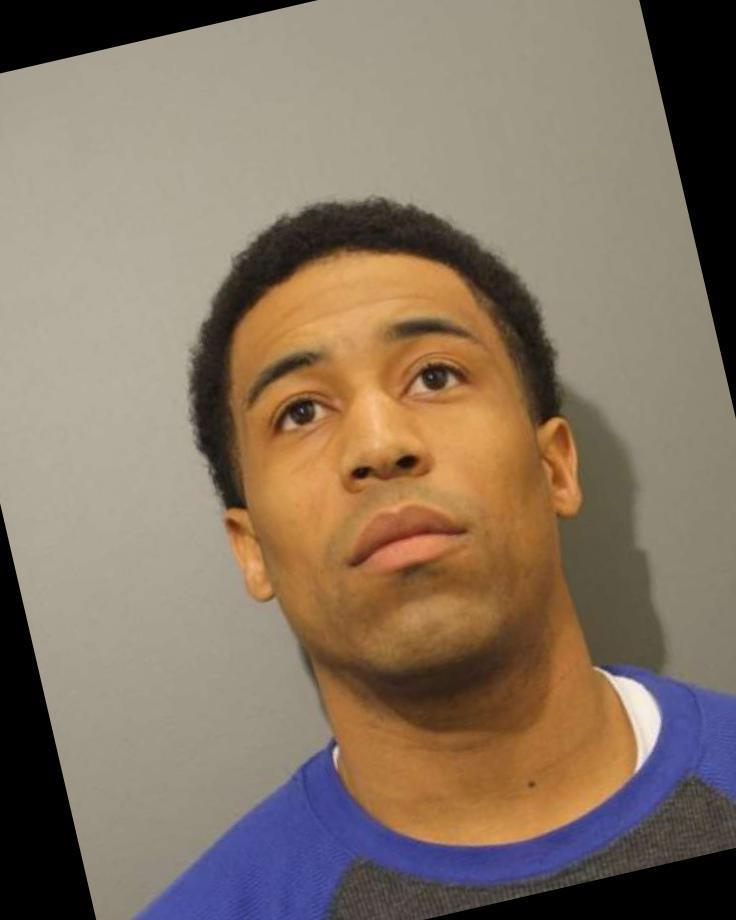Sober: (239, 306, 532, 631)
